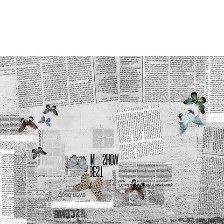news_paper: (0, 54, 224, 224)
